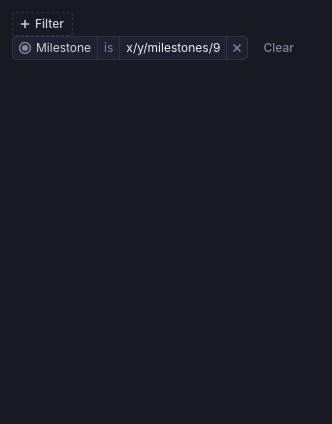
TaskFilters › keeps a selected value that the facets no longer list
Click the button "Filter": (42, 24) [12,12,73,36]
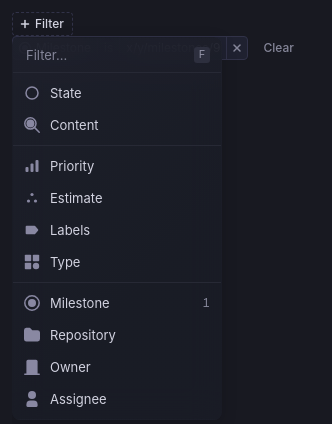
Click the button "Milestone 1": (117, 303) [17,287,217,319]
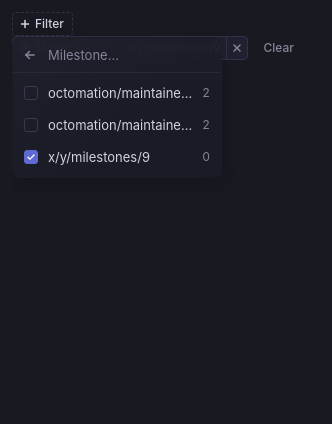
Result: the checkbox labelled "x/y/milestones/9" is checked at [24,150,38,164]
Result: the label "x/y/milestones/9" shows "0" at [202,149,210,164]
